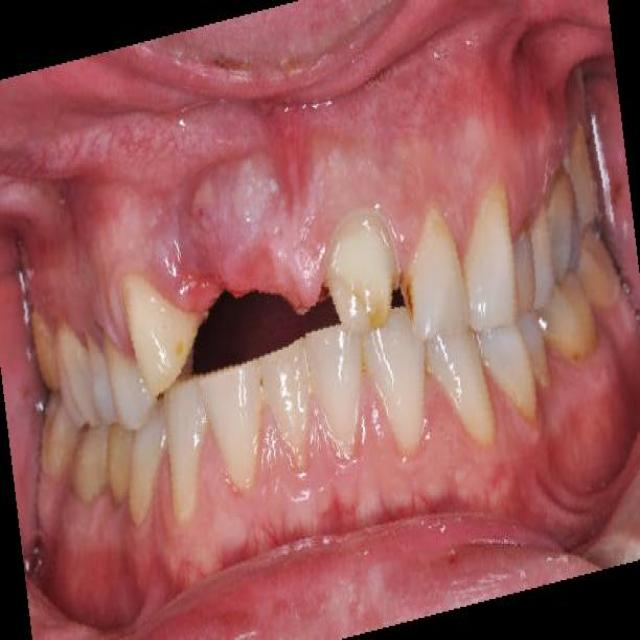redness: (168, 201, 220, 311)
swelling: (180, 415, 236, 521), (241, 396, 297, 494)
